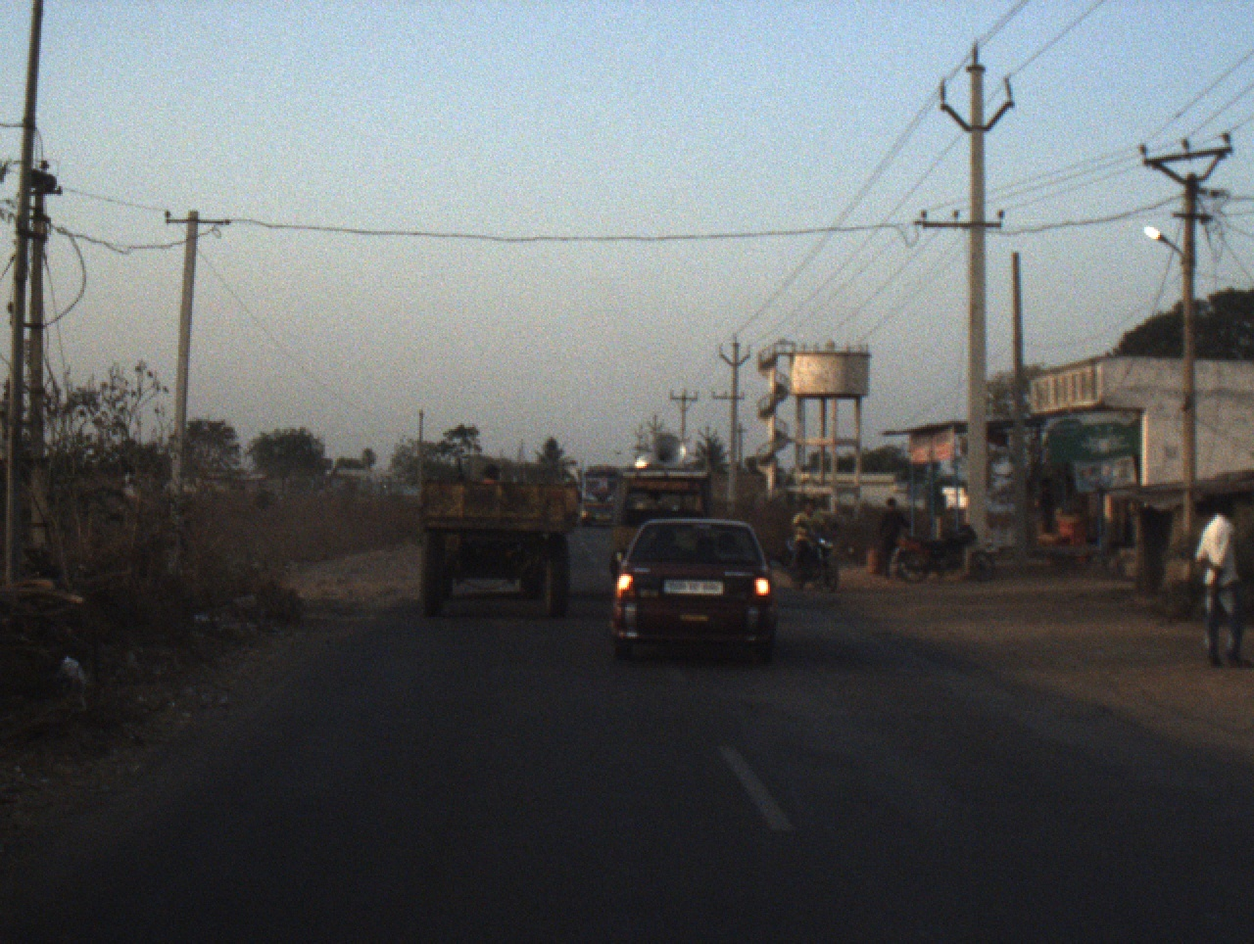autorickshaw: (616, 436, 713, 550)
car: (608, 518, 778, 666)
motorcycle: (895, 521, 996, 587), (782, 520, 844, 596)
person: (1197, 498, 1242, 673), (871, 495, 907, 578)
rider: (793, 498, 833, 576), (476, 462, 503, 484)
truck: (579, 463, 618, 526)
vehicle fallback: (416, 438, 576, 618)
